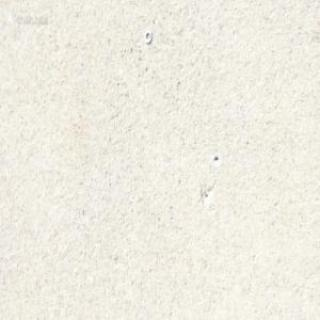Washertrack_idkeyframe: (143, 29, 151, 43)
